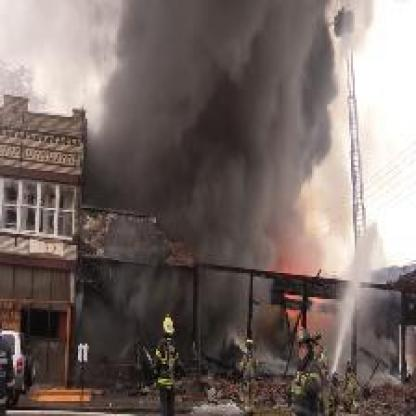fire: (260, 228, 334, 353)
smoke: (78, 3, 342, 369)
